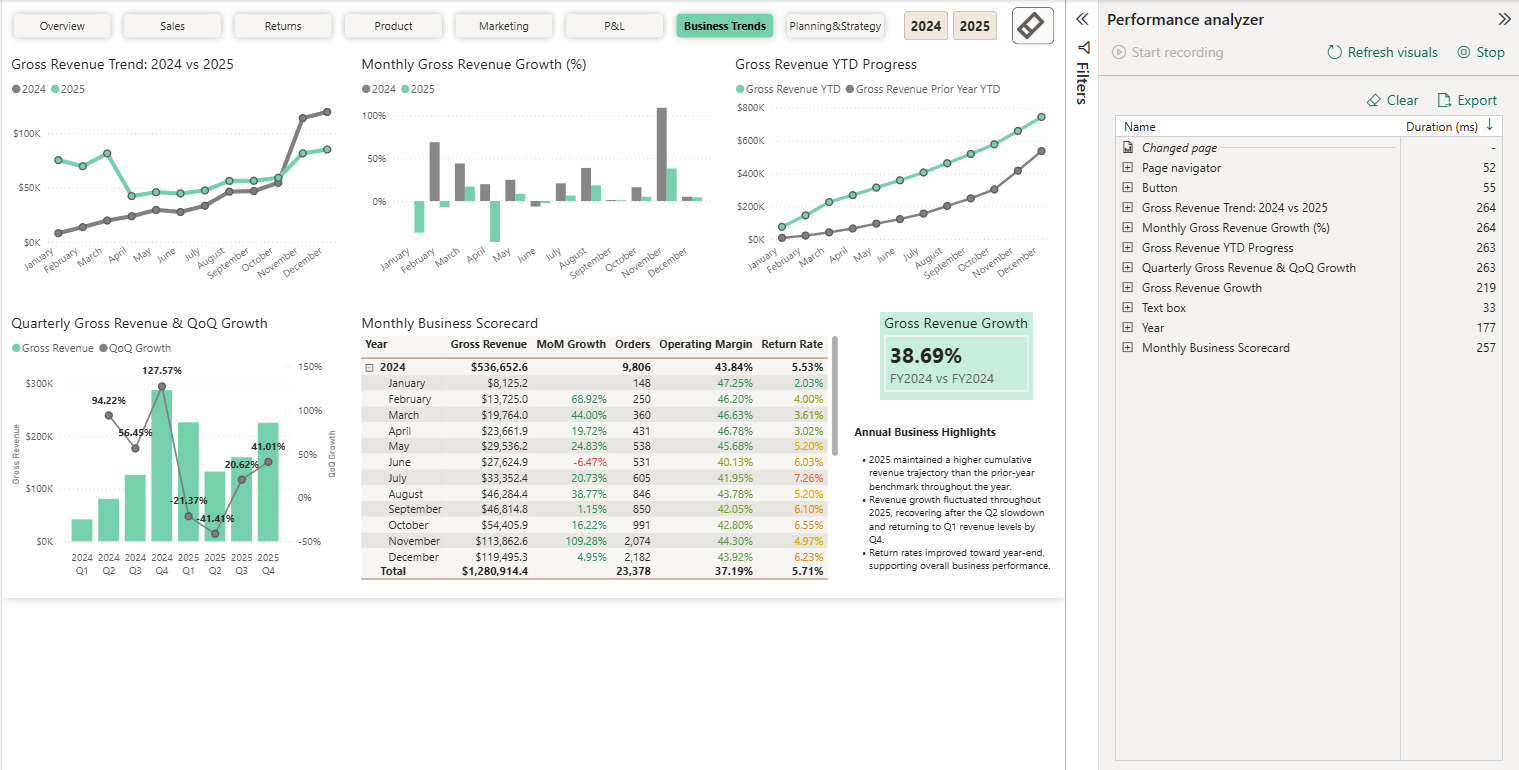

This screenshot's page, from the dashboard's own definition file:
{"tool":"powerbi","page":{"name":"Business Trends","canvas":[1280,720],"ordinal":6},"visuals":[{"type":"pageNavigator","box":[6.6,8.5,1067.5,45.3],"z":0},{"type":"advancedSlicerVisual","fields":{"Values":["dim_date.year_number"]},"box":[1081.2,8.2,123.7,45.8],"z":1000},{"type":"actionButton","box":[1216.2,8.8,51,45.1],"z":2000},{"type":"lineChart","title":"Gross Revenue Trend: 2024 vs 2025","fields":{"Category":["dim_date.month_name"],"Y":["_measures.Total Gross Revenue"],"Series":["dim_date.year_number"]},"box":[6.5,63.8,402.3,296],"z":3000},{"type":"clusteredColumnChart","title":"Monthly Gross Revenue Growth (%)","fields":{"Category":["dim_date.month_name"],"Y":["_measures.Gross Revenue MoM %"],"Series":["dim_date.year_number"]},"box":[427.3,63.8,432.8,296],"z":4000},{"type":"lineChart","title":"Gross Revenue YTD Progress","fields":{"Category":["dim_date.month_name"],"Y":["_measures.Gross Revenue YTD","_measures.Gross Revenue Prior Year YTD"]},"box":[877.7,63.8,390.3,296],"z":5000},{"type":"lineClusteredColumnComboChart","title":"Quarterly Gross Revenue & QoQ Growth","fields":{"Y":["_measures.Total Gross Revenue"],"Y2":["_measures.Gross Revenue QoQ %"],"Category":["dim_date.year_quarter"]},"box":[6.5,375.5,402.3,327.4],"z":6000},{"type":"pivotTable","title":"Monthly Business Scorecard","fields":{"Rows":["dim_date.year_number","dim_date.month_name"],"Values":["_measures.Total Gross Revenue","_measures.Gross Revenue MoM % Matrix","_measures.Total Orders","_measures.Operating Margin %","_measures.Return Rate %"]},"box":[427.3,375.5,585.4,327.4],"z":7000},{"type":"textbox","box":[1020.7,505.8,246.5,197],"z":8000},{"type":"multiRowCard","title":"Gross Revenue Growth","fields":{"Values":["_measures.Gross Revenue Growth FY2024 vs FY2024 %"]},"box":[1057.4,375.7,184.2,106.3],"z":9000}]}

Visuals, with their boxes on the page's 1280x720 design canvas (x1, y1, x2, y2). These are canvas units, not pixel positions in the 1519x770 screenshot, which may show the page scaled, cropped or inside an application window:
pageNavigator: crop(7, 8, 1074, 54)
advancedSlicerVisual - dim_date.year_number: crop(1081, 8, 1205, 54)
actionButton: crop(1216, 9, 1267, 54)
"Gross Revenue Trend: 2024 vs 2025" lineChart: crop(6, 64, 409, 360)
"Monthly Gross Revenue Growth (%)" clusteredColumnChart: crop(427, 64, 860, 360)
"Gross Revenue YTD Progress" lineChart: crop(878, 64, 1268, 360)
"Quarterly Gross Revenue & QoQ Growth" lineClusteredColumnComboChart: crop(6, 376, 409, 703)
"Monthly Business Scorecard" pivotTable: crop(427, 376, 1013, 703)
textbox: crop(1021, 506, 1267, 703)
"Gross Revenue Growth" multiRowCard: crop(1057, 376, 1242, 482)
